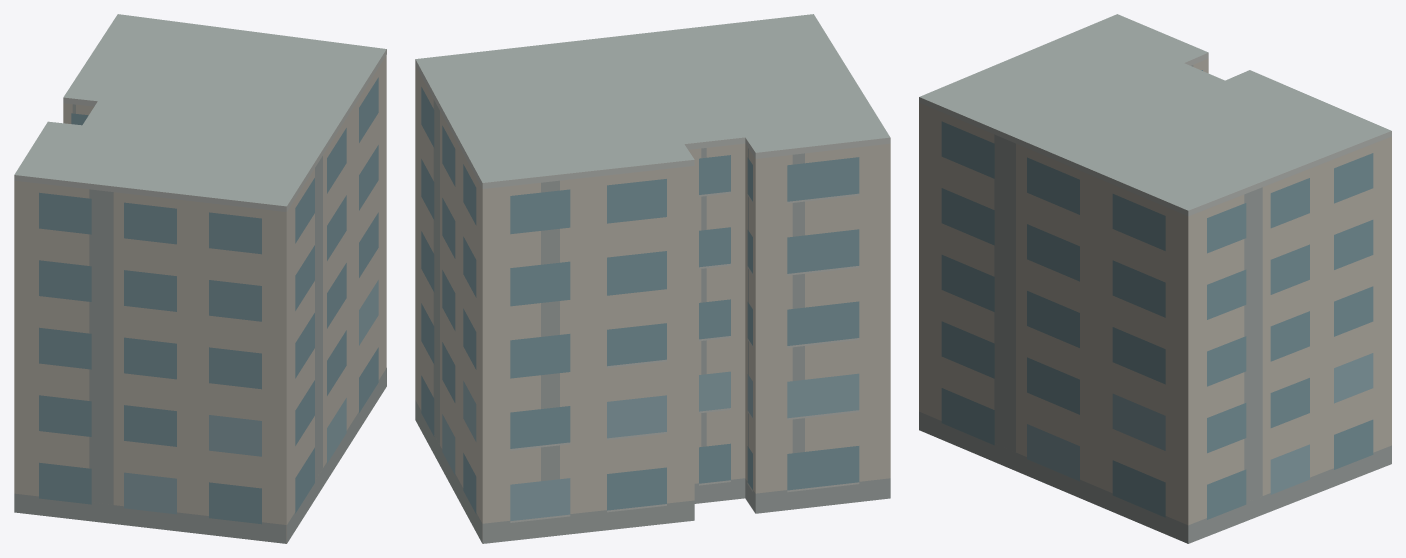
The model's file is survey-upis-32893684.glb.
3 views of the same model, side by side, from view 1: azimuth 30°, elevation 25°; view 2: azimuth 150°, elevation 25°; view 3: azimuth 270°, elevation 25° (orthographic). The views are drawn at different scales.
Visible parts, largest first — view 1: survey-upis-32893684.tmp; view 2: survey-upis-32893684.tmp; view 3: survey-upis-32893684.tmp.
Boxes of the visible parts, box(x1,y1,x2,y2) form: survey-upis-32893684.tmp: box(14, 14, 386, 543); survey-upis-32893684.tmp: box(415, 14, 890, 543); survey-upis-32893684.tmp: box(919, 14, 1391, 543).
Bounding box in the file's own units: 18.24 × 14.4 × 18.52.
